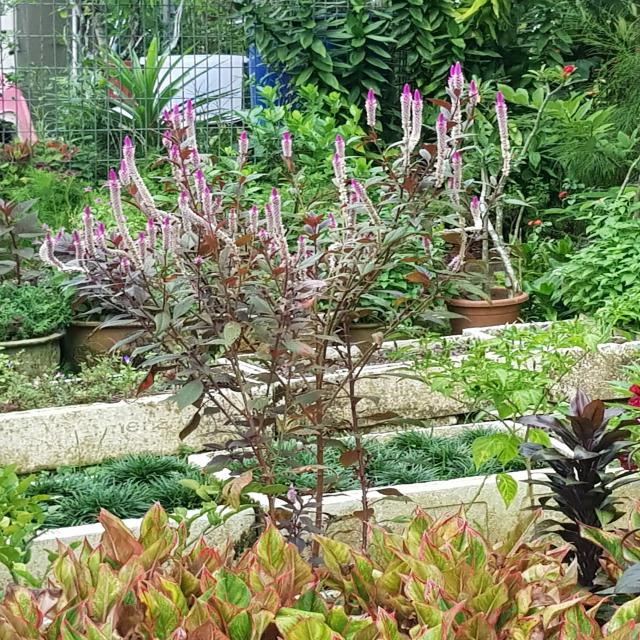Celosia-Argentea: (151, 94, 226, 224), (439, 52, 523, 151), (114, 160, 182, 282), (220, 198, 318, 273), (362, 75, 431, 147), (324, 138, 382, 217), (42, 216, 104, 278)
